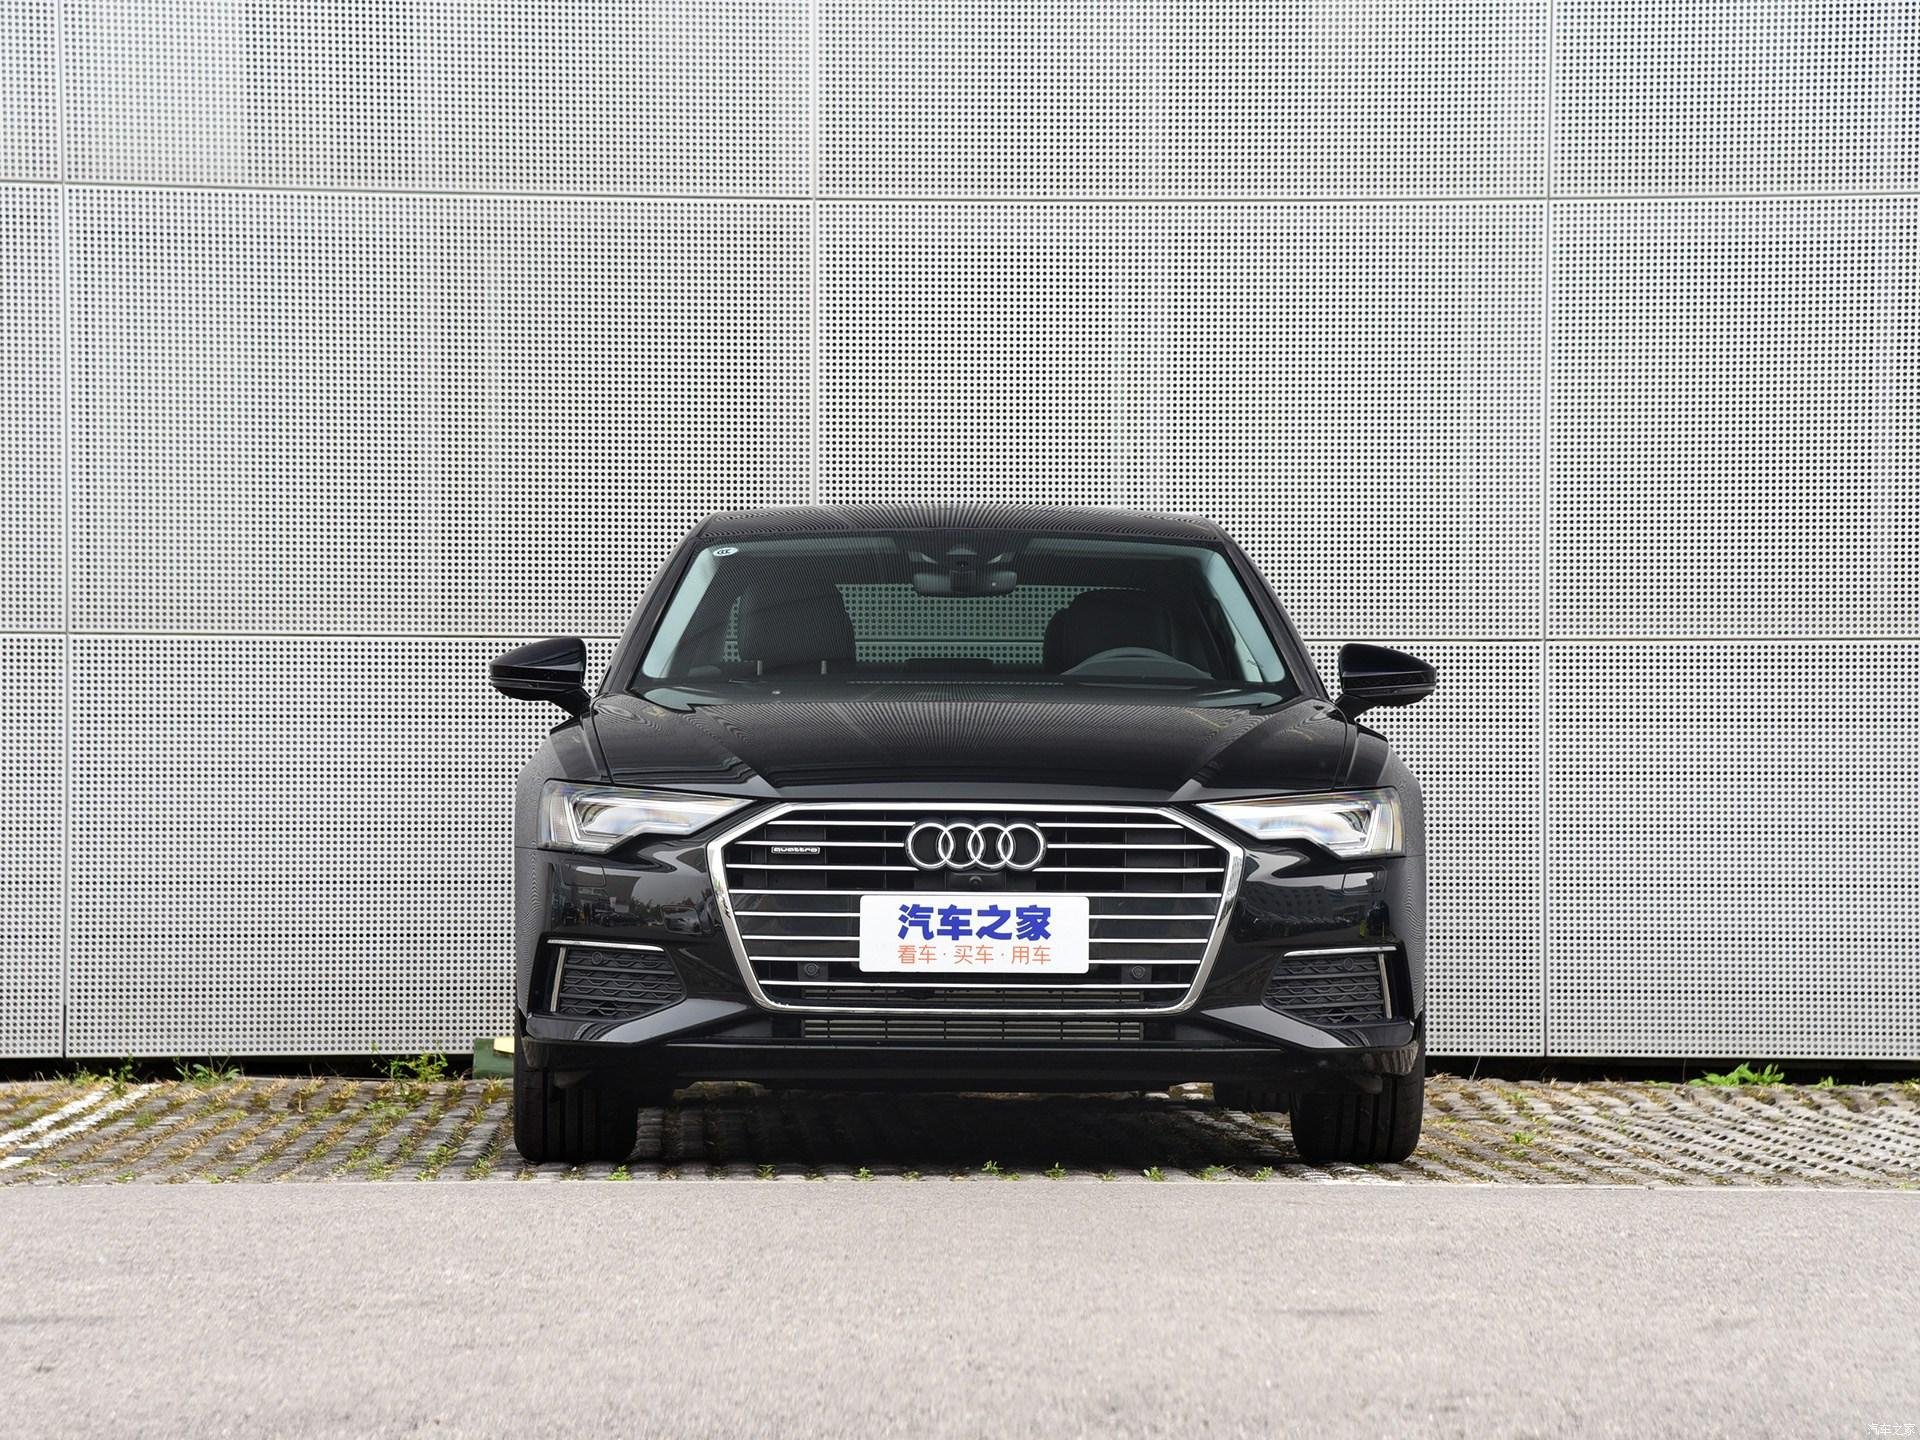car: (404, 390, 1581, 1383)
